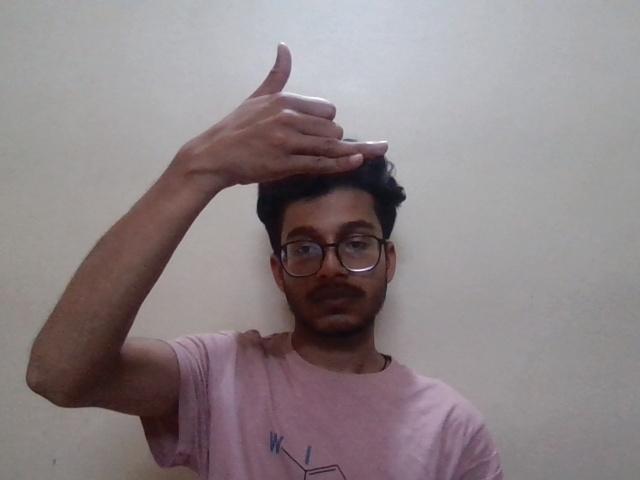project: (149, 36, 397, 205)
